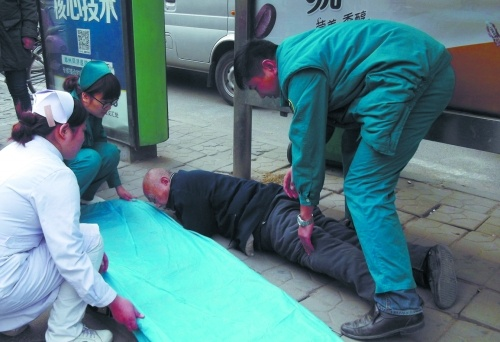falling: (125, 158, 473, 323)
